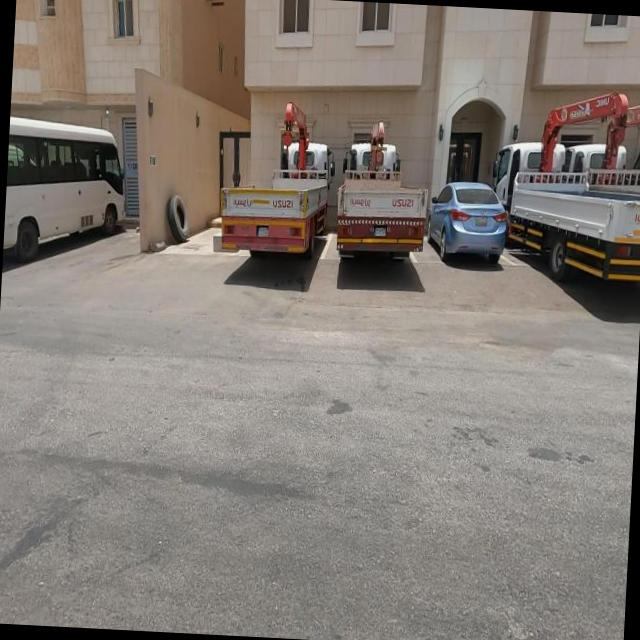debris: (148, 160, 218, 284)
